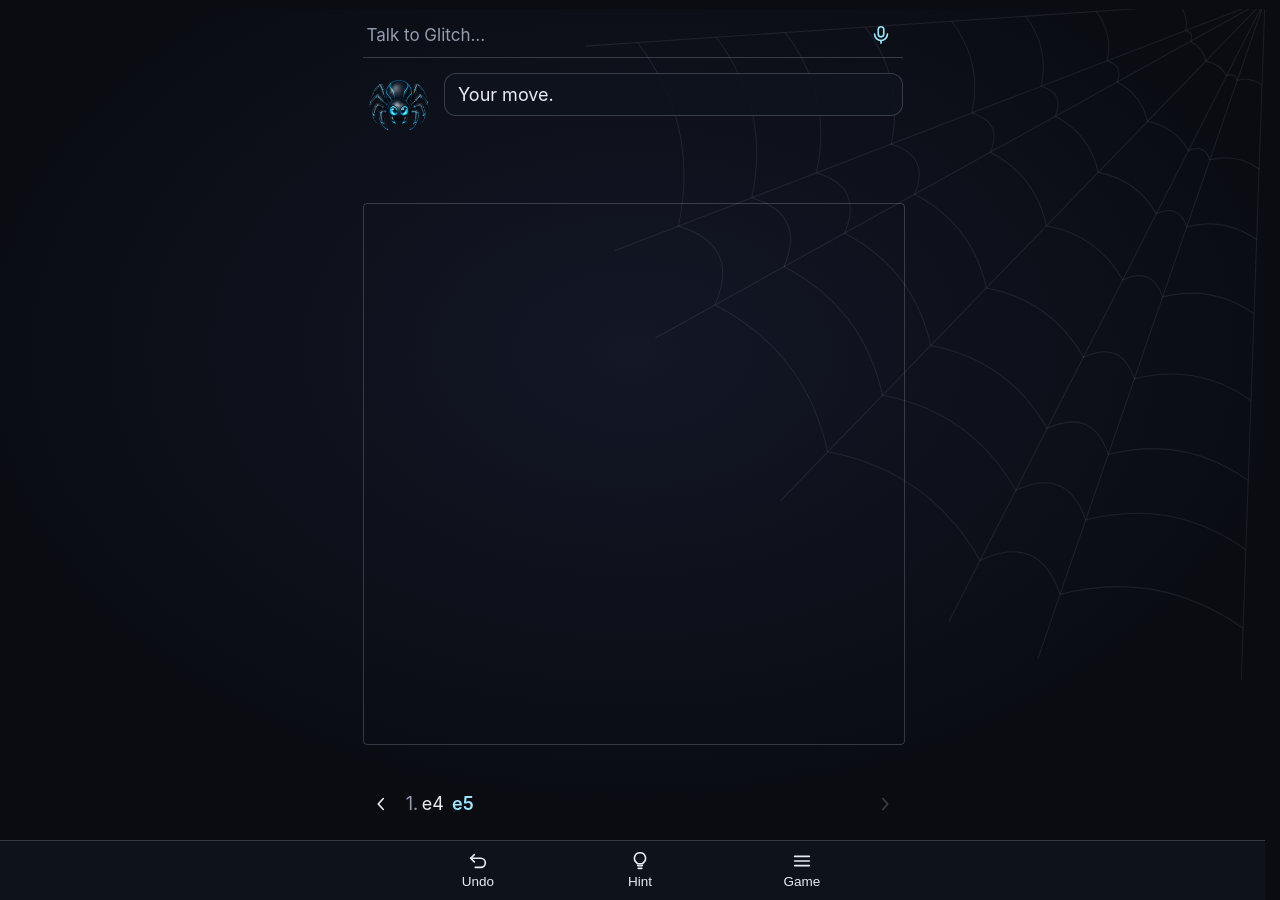
resign › answers the gate itself rather than asking a second time
The width and height of the screenshot is (1280, 900).
Click the button "Game": [802, 870] box [721,840,883,899]
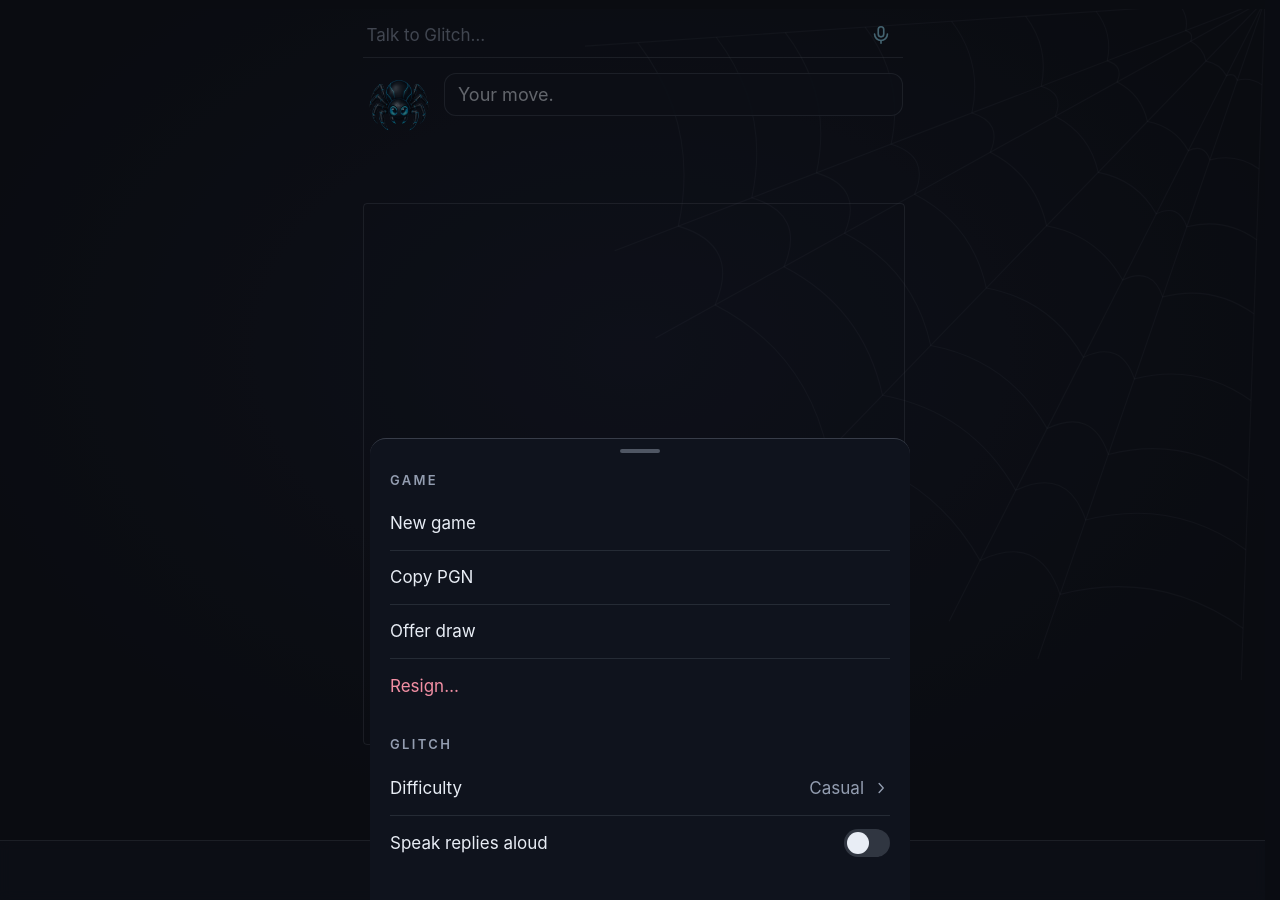
Click the button "Resign…": [424, 686] box [390,659,890,713]
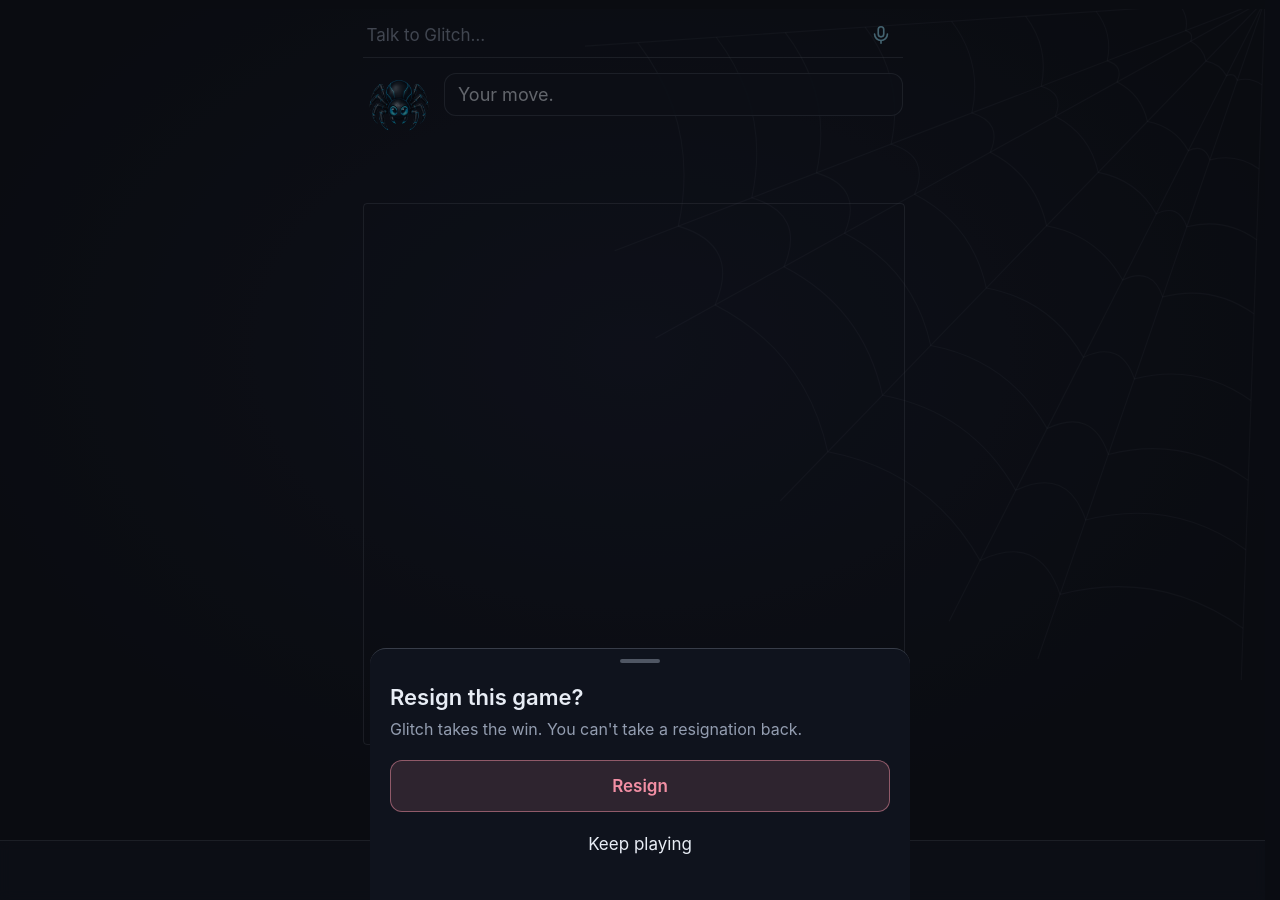
Click the button "Resign": [640, 786] box [390,760,890,812]
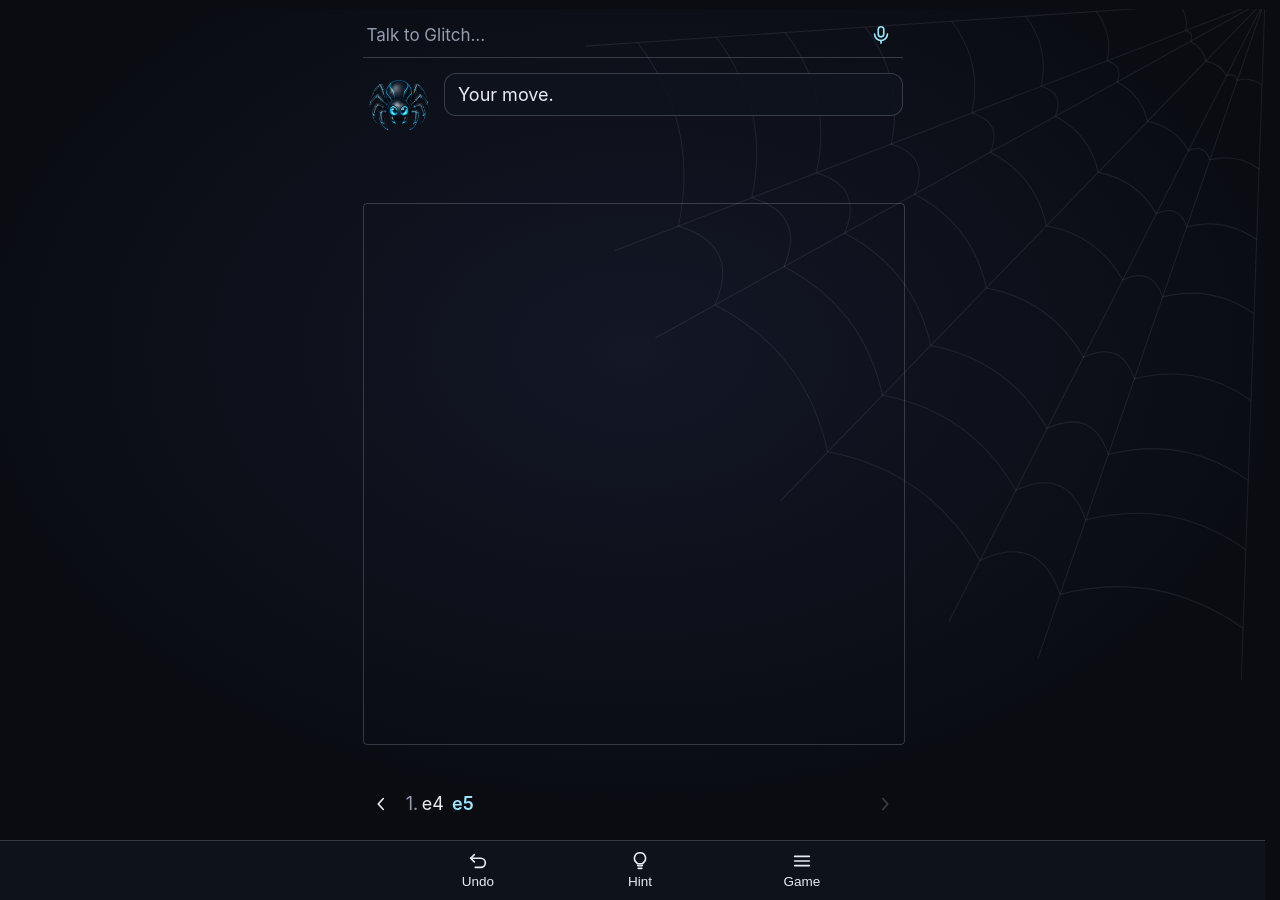
Check: the dialog is gone
